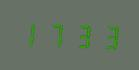one: (18, 18, 42, 49)
seven: (43, 19, 67, 49)
three: (68, 19, 92, 50), (93, 20, 117, 51)
